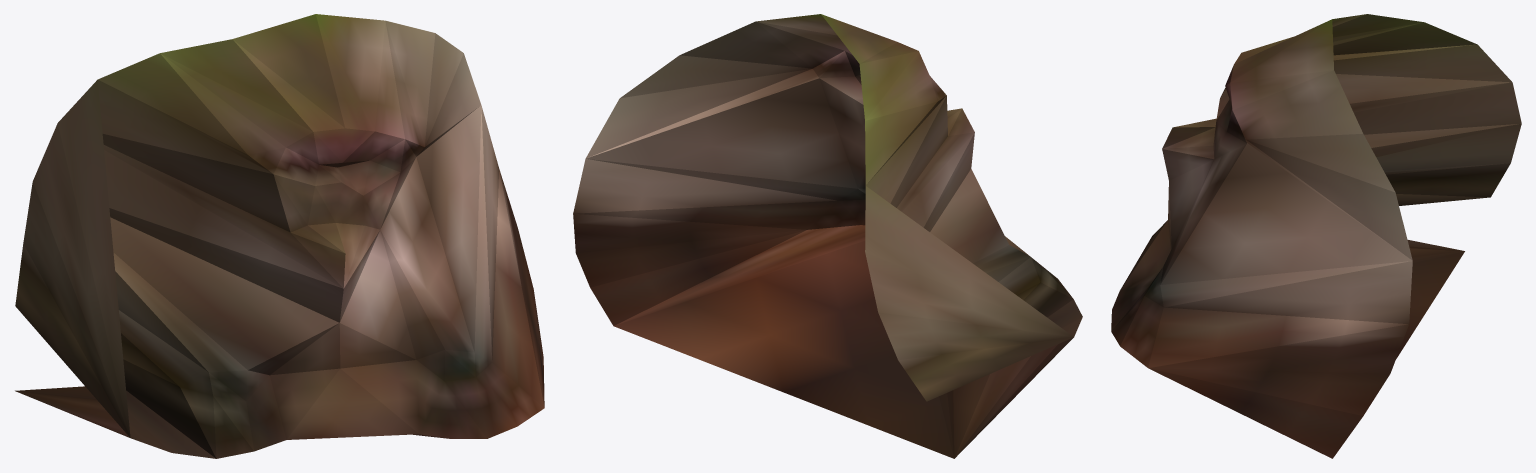
The model's file is real_694.obj.
3 renders of one model, left to right at view 1: azimuth 30°, elevation 25°; view 2: azimuth 150°, elevation 25°; view 3: azimuth 270°, elevation 25°, orthographic. The views are drawn at different scales.
Size of the model in its own units: 119 by 97 by 105.
